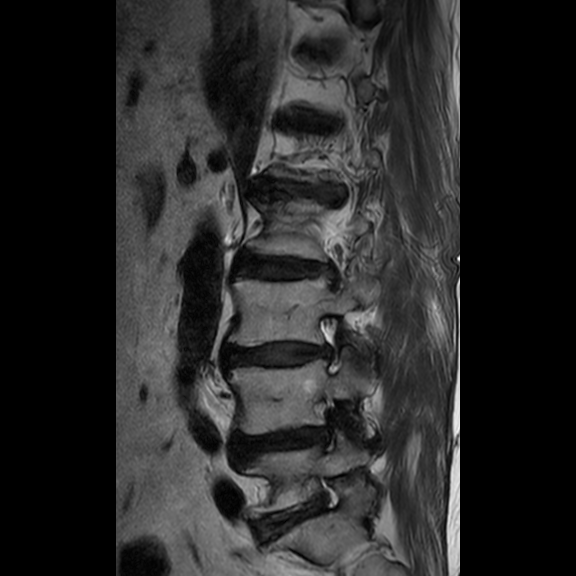LFS0: (301, 304, 353, 379)
LFS3: (303, 389, 358, 463)
